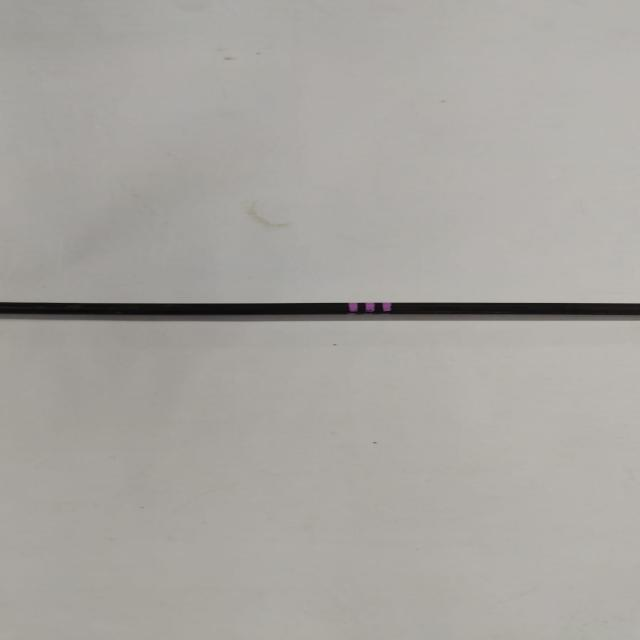pink: (347, 302, 392, 315)
